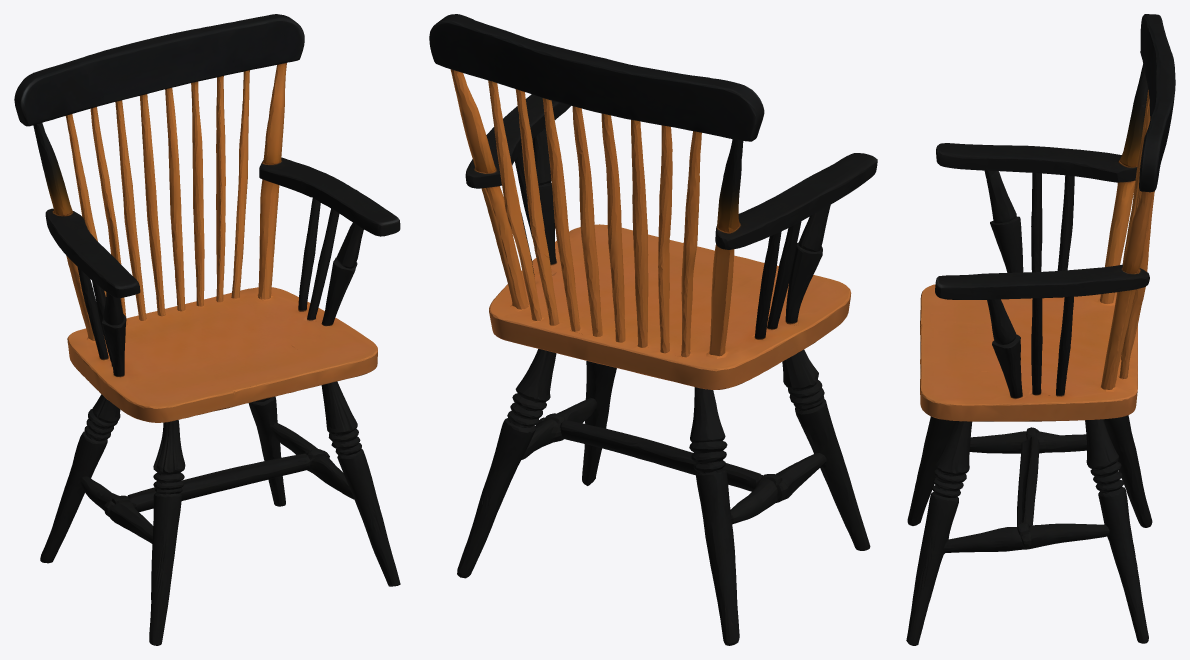
File: chair.glb
The picture shows the model from 3 angles, left to right: view 1: azimuth 30°, elevation 25°; view 2: azimuth 150°, elevation 25°; view 3: azimuth 270°, elevation 25°; orthographic projection. The views are drawn at different scales.
Parts seen in each view (by area): view 1: model; view 2: model; view 3: model.
Boxes of the visible parts, <box> form: model: <box>14,14,400,645</box>; model: <box>429,14,877,645</box>; model: <box>906,14,1175,645</box>.
Size of the model in its own units: 1.16 by 1.9 by 0.9108.
Materials: 1 (1 with a texture image).
